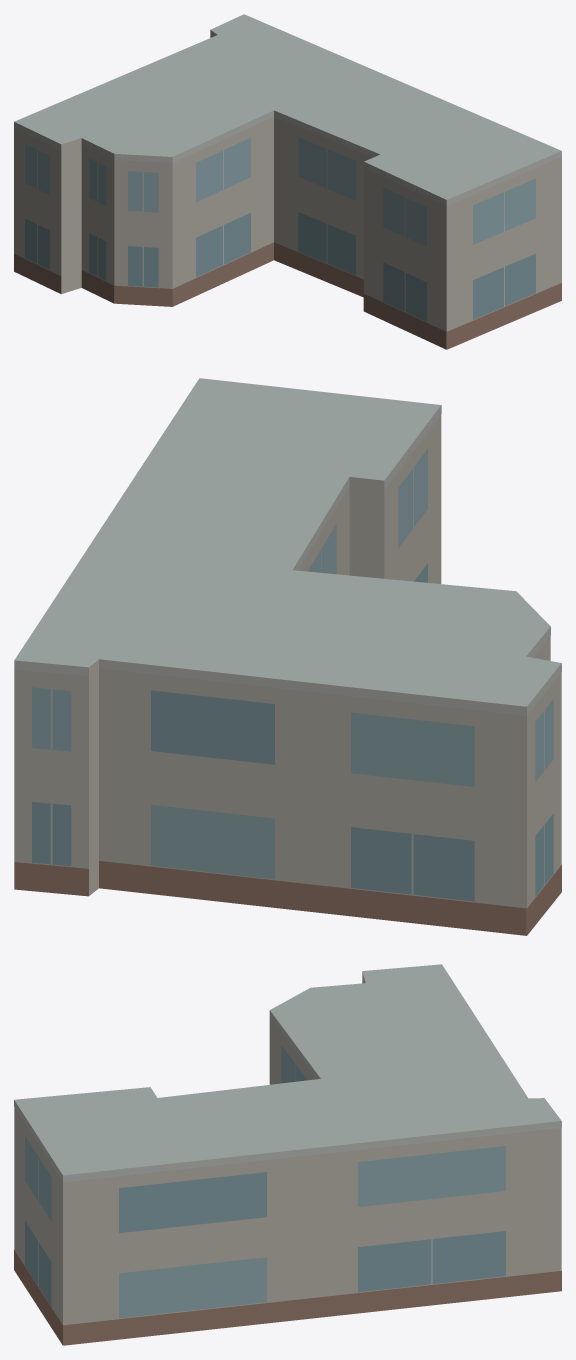
The model's file is survey-upis-32769031.glb.
3 renders of one model, top to bottom at view 1: azimuth 30°, elevation 25°; view 2: azimuth 150°, elevation 25°; view 3: azimuth 270°, elevation 25°, orthographic. The views are drawn at different scales.
Parts seen in each view (by area): view 1: survey-upis-32769031.tmp; view 2: survey-upis-32769031.tmp; view 3: survey-upis-32769031.tmp.
Boxes of the visible parts, bbox=[...] form: survey-upis-32769031.tmp: bbox=[14, 14, 561, 349]; survey-upis-32769031.tmp: bbox=[14, 378, 561, 935]; survey-upis-32769031.tmp: bbox=[14, 964, 561, 1345].
Bounding box in the file's own units: 16.24 × 6.1 × 17.8.
